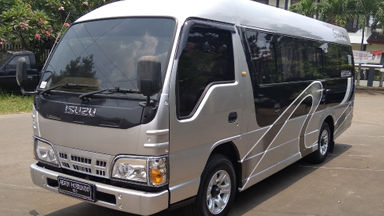plate: (57, 177, 92, 200)
